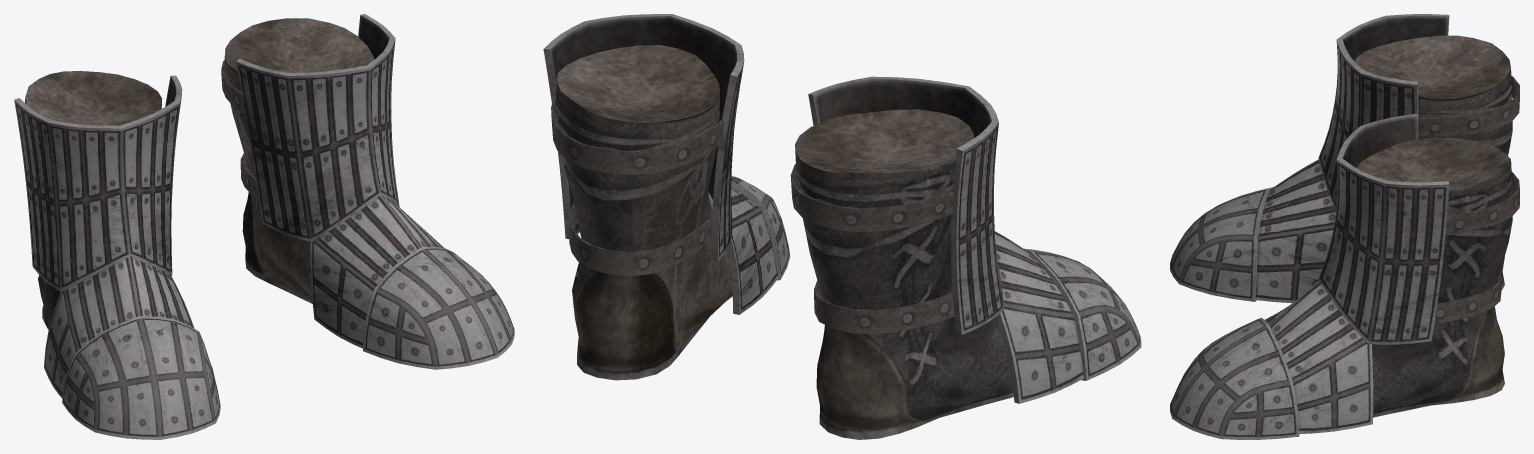
File: sk_dwarf_iron_boots_elite_b1.fbx
The picture shows the model from 3 angles, left to right: view 1: azimuth 30°, elevation 25°; view 2: azimuth 150°, elevation 25°; view 3: azimuth 270°, elevation 25°; orthographic projection. The views are drawn at different scales.
Visible parts, largest first — view 1: sk_dwarf_iron_boots_elite_b1.0, sk_dwarf_iron_boots_elite_b1.1; view 2: sk_dwarf_iron_boots_elite_b1.0, sk_dwarf_iron_boots_elite_b1.1; view 3: sk_dwarf_iron_boots_elite_b1.0, sk_dwarf_iron_boots_elite_b1.1.
Part boxes in pixels (x1,y1,x2,y2): sk_dwarf_iron_boots_elite_b1.0: (14, 14, 514, 439); sk_dwarf_iron_boots_elite_b1.1: (221, 60, 258, 200); sk_dwarf_iron_boots_elite_b1.0: (543, 14, 1141, 439); sk_dwarf_iron_boots_elite_b1.1: (551, 95, 954, 334); sk_dwarf_iron_boots_elite_b1.0: (1170, 14, 1512, 439); sk_dwarf_iron_boots_elite_b1.1: (1418, 76, 1519, 323).
Bounding box in the file's own units: 0.5738 × 0.4157 × 0.3158.
Materials: 2 (2 with a texture image).
